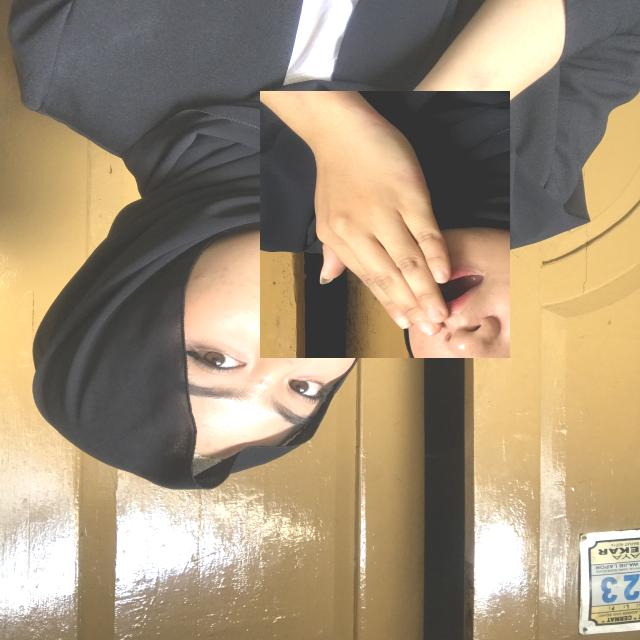ngantuk: (260, 91, 510, 358)
